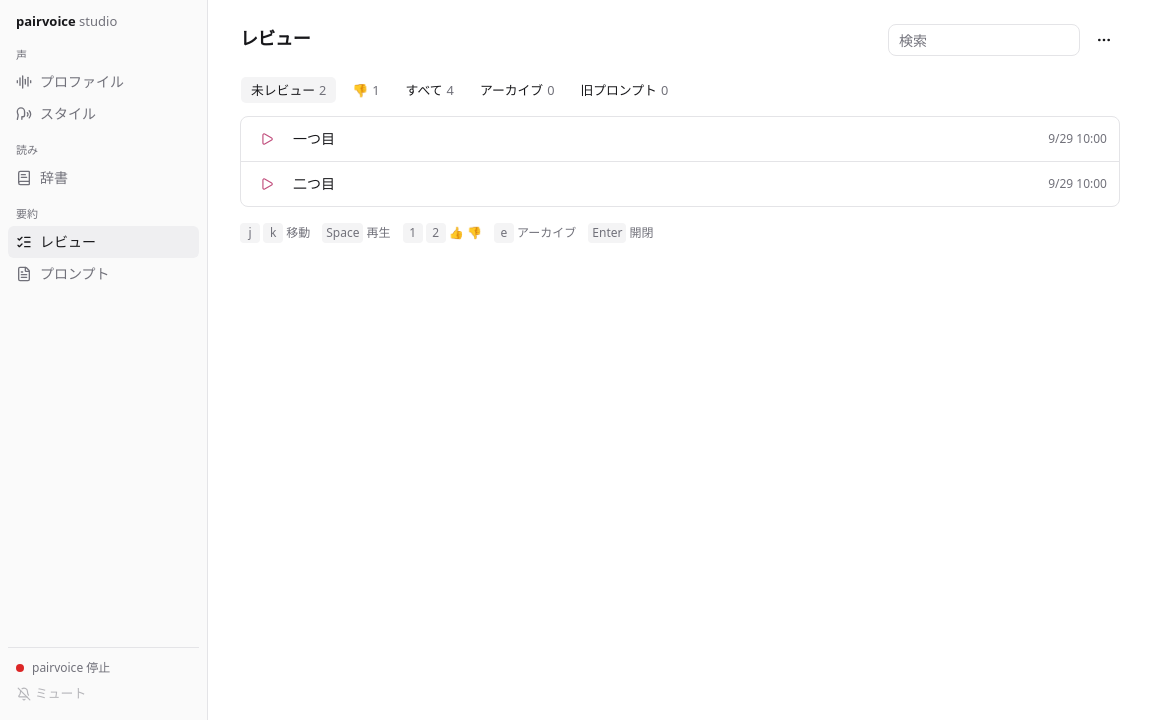
Test case: 展開した行の 👍 をクリックしても、未レビューから消えた行の次が選ばれる
Expected: the text "一つ目" is shown, top-left (293, 129), bottom-right (335, 148)
Press j
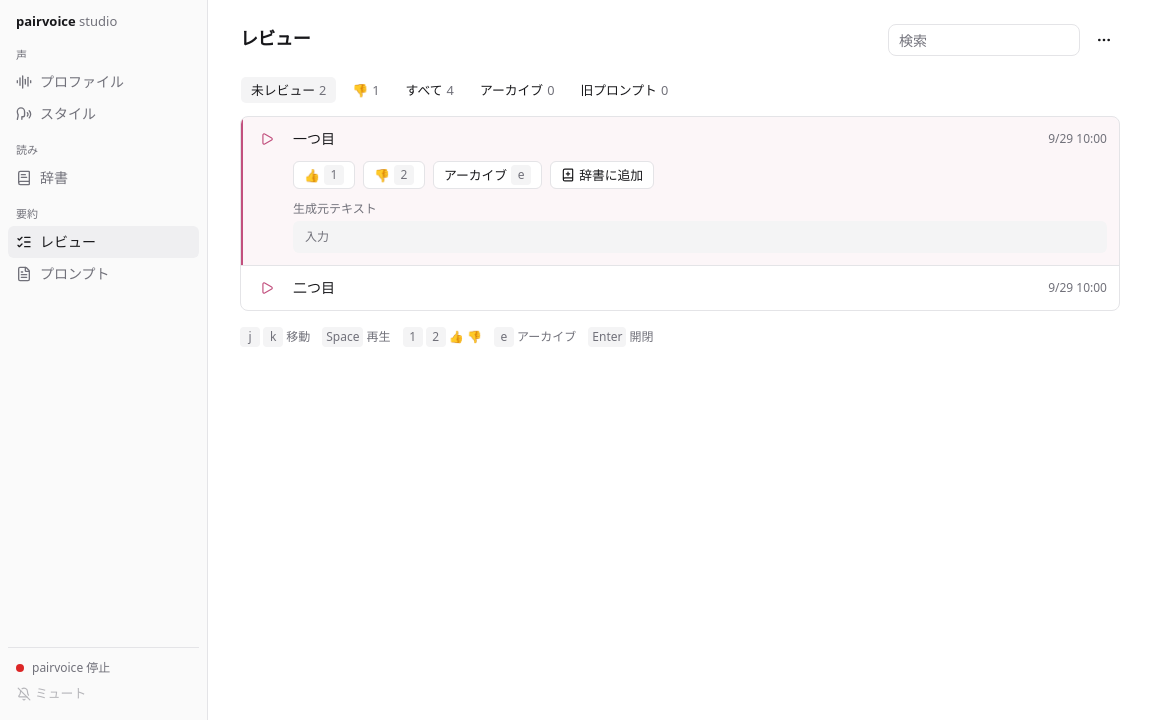
Click the button named "良い". click: {"x": 324, "y": 175}
box: top-left (293, 161), bottom-right (355, 189)
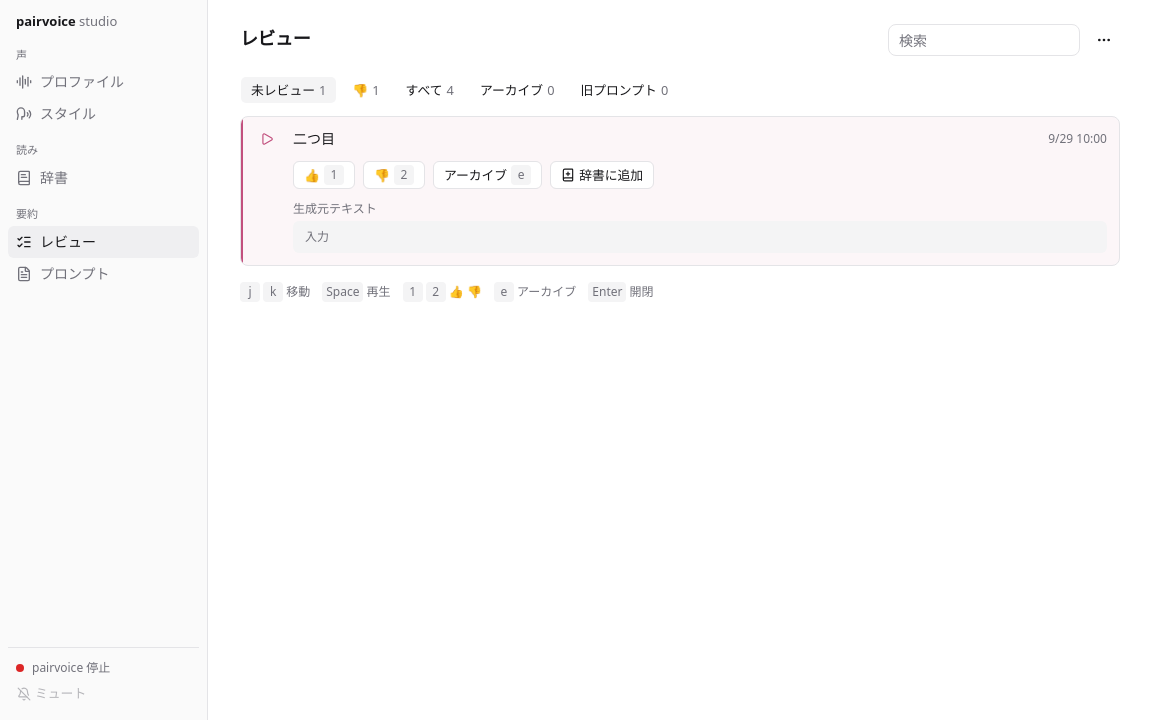
Expected: the list item "二つ目 9/29 10:00 辞書に追加 生成元テキスト 入力" is shown, top-left (241, 117), bottom-right (1119, 265)
Now the text "一つ目" is gone
